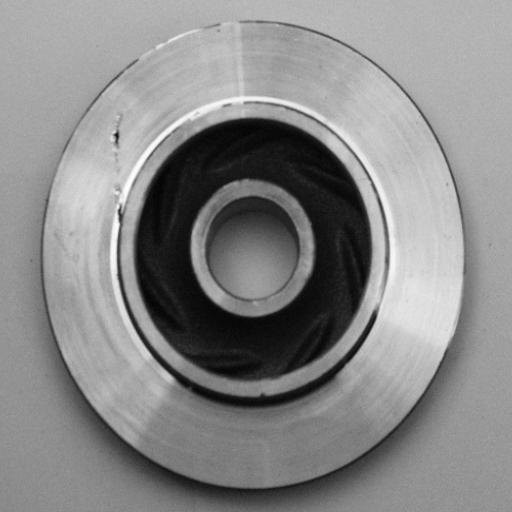crack: (107, 111, 136, 237)
unpolished_casting: (39, 16, 469, 496)
